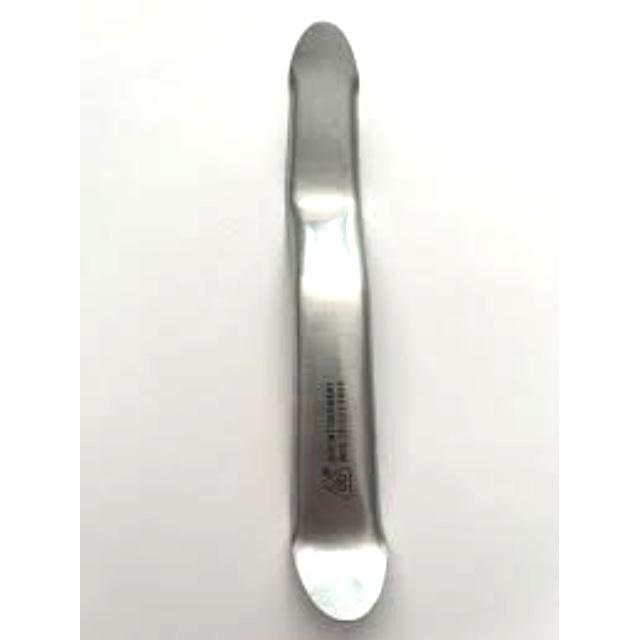separador: (284, 22, 389, 624)
